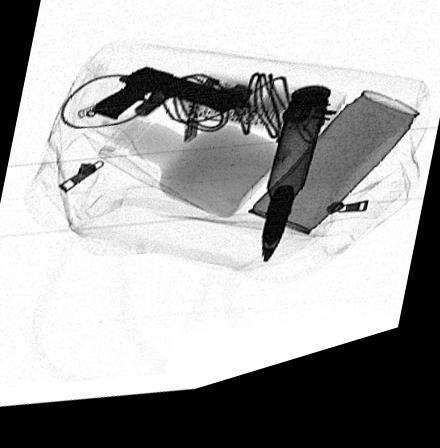Bullet: (260, 103, 331, 279)
Gun: (90, 74, 248, 127)
